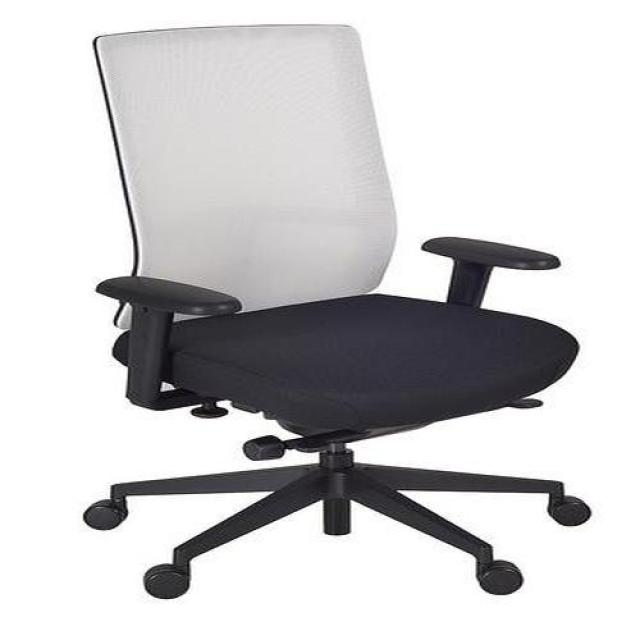swivelchair: (84, 24, 594, 603)
